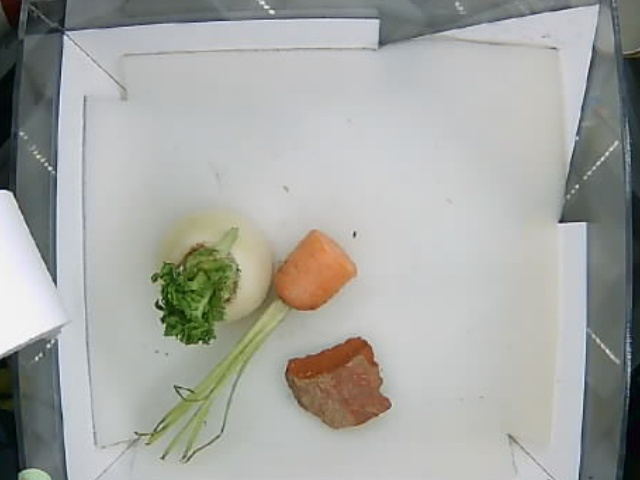Brisk: (288, 330, 392, 433)
Carrot: (263, 228, 359, 327)
Mooli: (158, 206, 270, 346)
